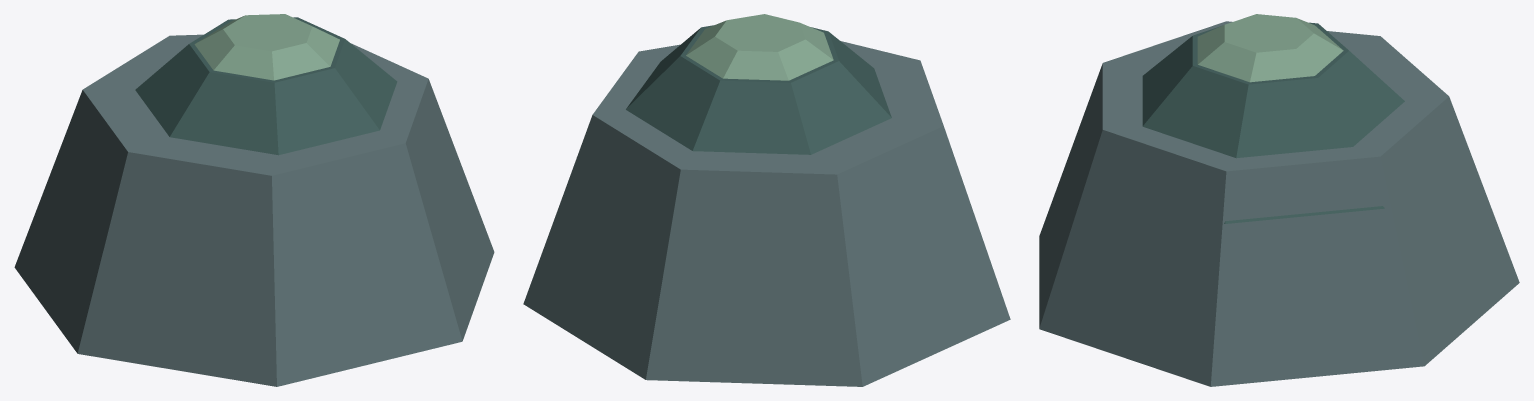
Rendered from Prop_MossRock.fbx.
3 renders of one model, left to right at view 1: azimuth 30°, elevation 25°; view 2: azimuth 150°, elevation 25°; view 3: azimuth 270°, elevation 25°, orthographic. The views are drawn at different scales.
Parts seen in each view (by area): view 1: Prop_MossRock; view 2: Prop_MossRock; view 3: Prop_MossRock.
Part boxes in pixels (x1,y1,x2,y2): Prop_MossRock: [14, 14, 494, 386]; Prop_MossRock: [523, 14, 1010, 386]; Prop_MossRock: [1039, 14, 1519, 386].
Size of the model in its own units: 0.8384 by 0.4775 by 0.8174.
